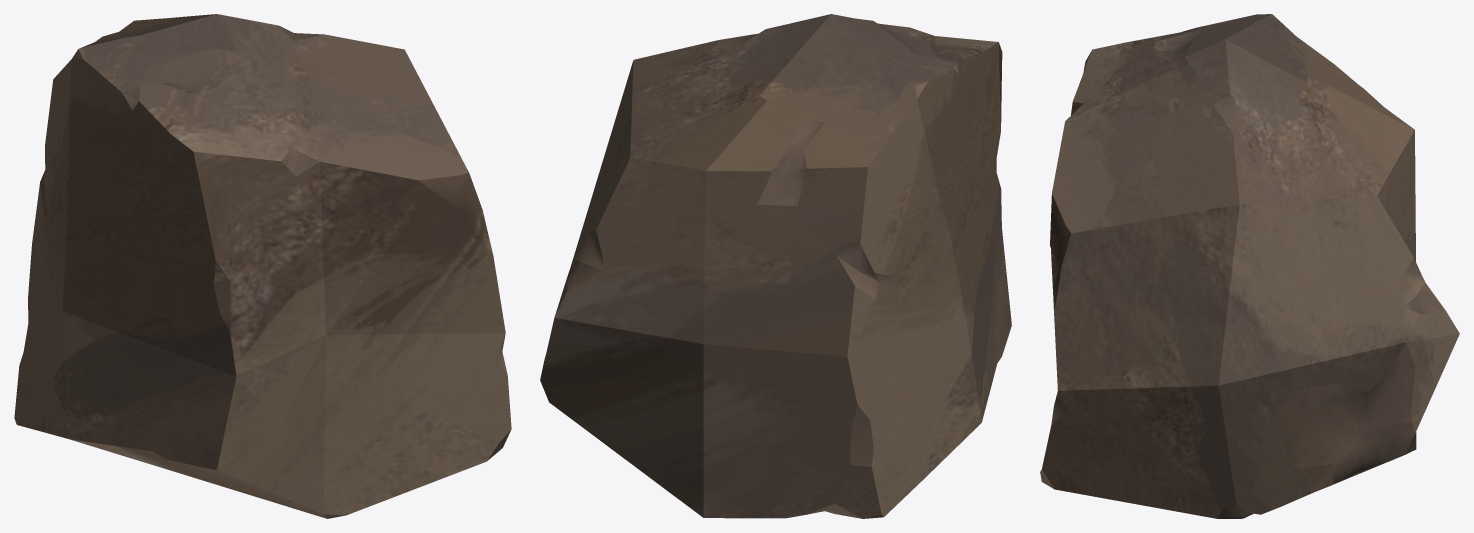
File: P_ROCK 4.fbx
3 renders of one model, left to right at view 1: azimuth 30°, elevation 25°; view 2: azimuth 150°, elevation 25°; view 3: azimuth 270°, elevation 25°, orthographic. The views are drawn at different scales.
Visible parts, largest first — view 1: Rock_04; view 2: Rock_04; view 3: Rock_04.
Boxes of the visible parts, x1,y1,x2,y2 form: Rock_04: [14, 14, 511, 518]; Rock_04: [540, 14, 1011, 518]; Rock_04: [1040, 14, 1459, 518].
Size of the model in its own units: 147 by 168 by 149.
